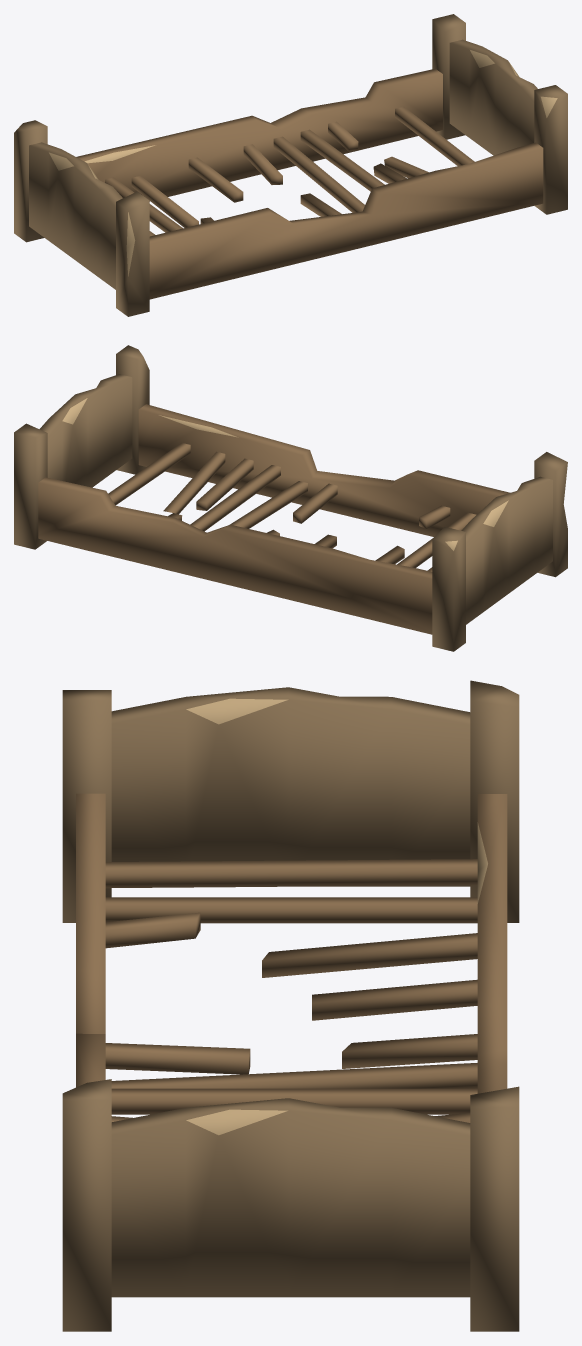
Rendered from rpgpp_av_bed_03a.gltf.
3 views of the same model, one above another, from view 1: azimuth 30°, elevation 25°; view 2: azimuth 150°, elevation 25°; view 3: azimuth 270°, elevation 25° (orthographic). The views are drawn at different scales.
Parts seen in each view (by area): view 1: rpgpp_av_bed_03a; view 2: rpgpp_av_bed_03a; view 3: rpgpp_av_bed_03a.
Boxes of the visible parts, x1=… form: rpgpp_av_bed_03a: x1=14, y1=14, x2=567, y2=316; rpgpp_av_bed_03a: x1=14, y1=345, x2=567, y2=651; rpgpp_av_bed_03a: x1=62, y1=680, x2=519, y2=1331.
Size of the model in its own units: 0.0264 by 0.00665 by 0.0119.
1 material, 1 textured.
